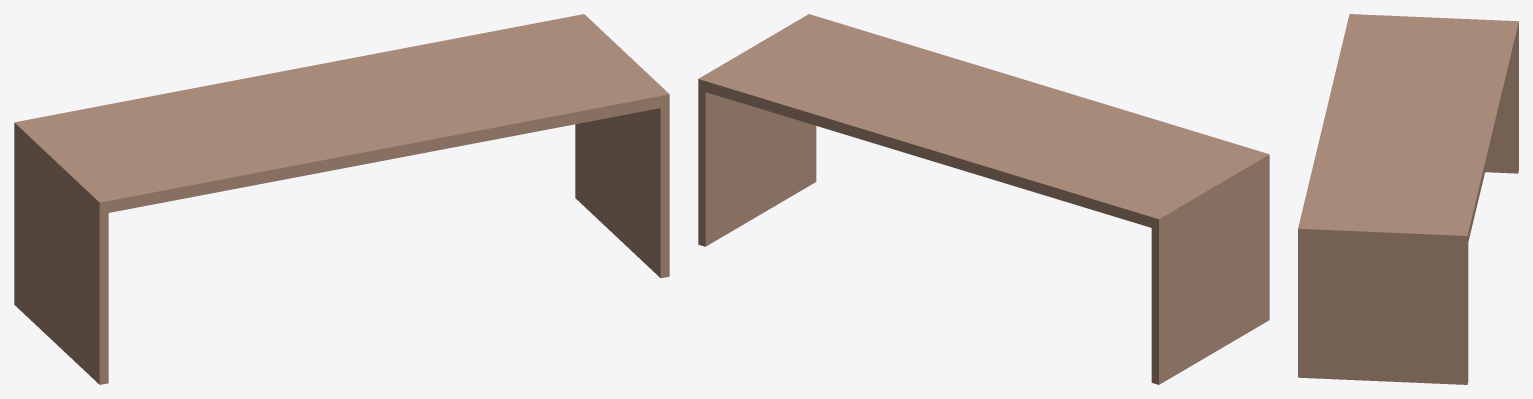
File: table.gltf
The picture shows the model from 3 angles, left to right: view 1: azimuth 30°, elevation 25°; view 2: azimuth 150°, elevation 25°; view 3: azimuth 270°, elevation 25°; orthographic projection. The views are drawn at different scales.
Parts seen in each view (by area): view 1: SpecialtyEquipment.dae; view 2: SpecialtyEquipment.dae; view 3: SpecialtyEquipment.dae.
Part boxes in pixels (bbox=[...]): SpecialtyEquipment.dae: bbox=[14, 14, 669, 384]; SpecialtyEquipment.dae: bbox=[698, 14, 1269, 384]; SpecialtyEquipment.dae: bbox=[1298, 14, 1518, 384].
Size of the model in its own units: 2.68 by 0.8393 by 1.13.
